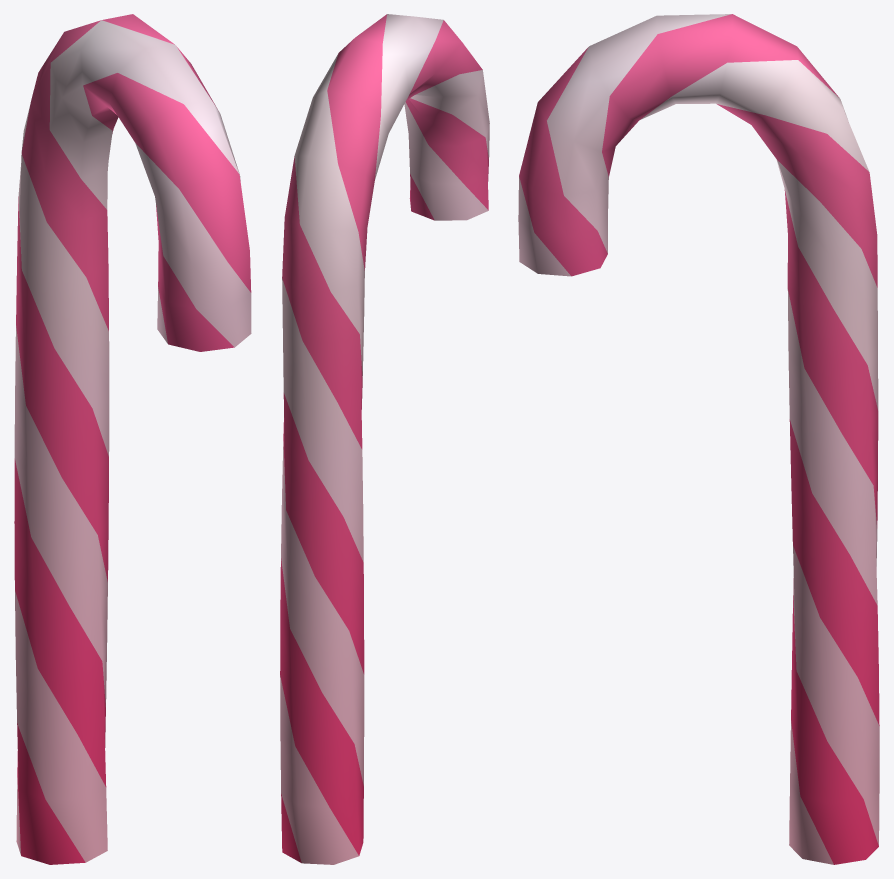
File: christmasCandy.fbx
3 views of the same model, side by side, from view 1: azimuth 30°, elevation 25°; view 2: azimuth 150°, elevation 25°; view 3: azimuth 270°, elevation 25° (orthographic). The views are drawn at different scales.
Parts seen in each view (by area): view 1: christmasCandy; view 2: christmasCandy; view 3: christmasCandy.
Boxes of the visible parts, <box> form: christmasCandy: <box>14,14,251,864</box>; christmasCandy: <box>280,14,489,864</box>; christmasCandy: <box>518,14,879,864</box>.
Size of the model in its own units: 1.38 by 14.04 by 5.56.
